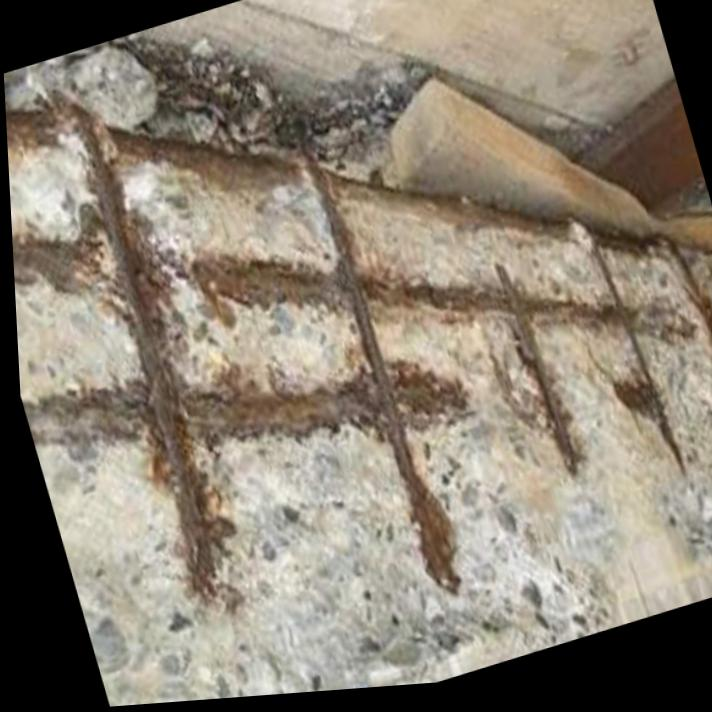damage: (4, 100, 712, 708)
